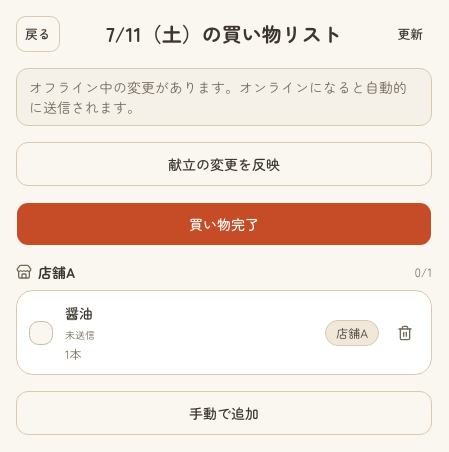
Test: ShoppingListClient（オフライン書き込みキュー結合シナリオ） › LCQ-04: online イベントで flush され、成功した品目のバナーが消える
Click the checkbox named "醤油": point(41, 332) x1=29 y1=320 x2=53 y2=344
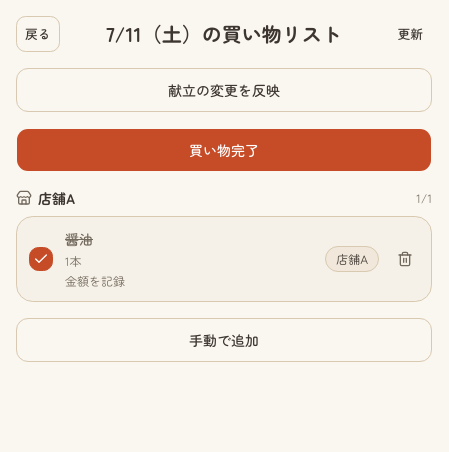
Expected: the text "オフライン中の変更があります。オンラインになると自動的に送信されます。" is gone
